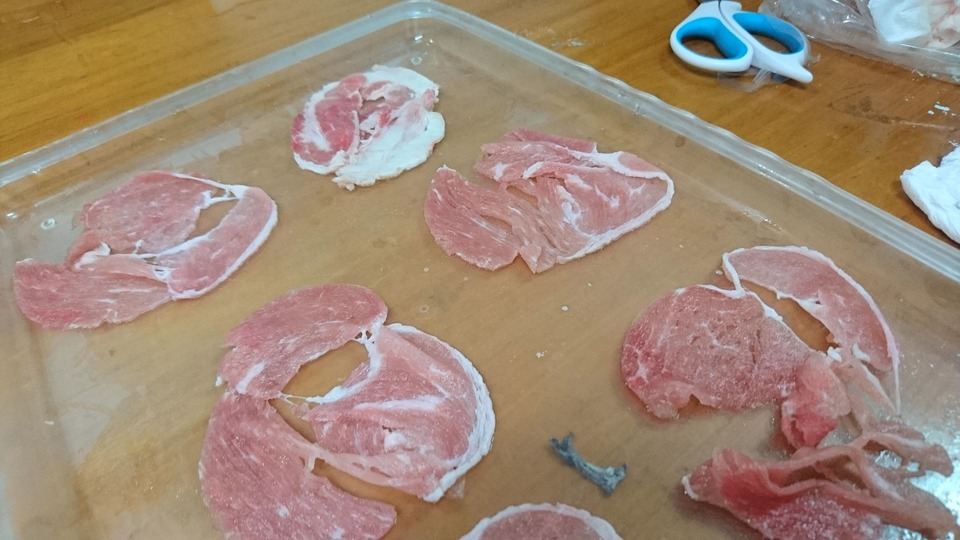restructured meat: (618, 251, 960, 533), (204, 285, 487, 536), (10, 134, 282, 316), (413, 134, 693, 262), (286, 57, 446, 183)
